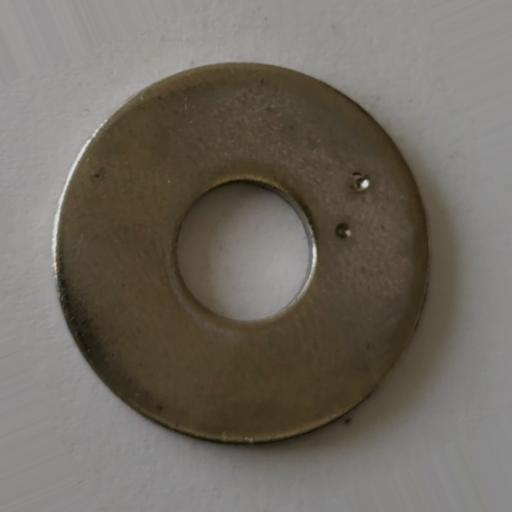circular_cavity: (350, 171, 372, 194), (335, 223, 352, 239)
